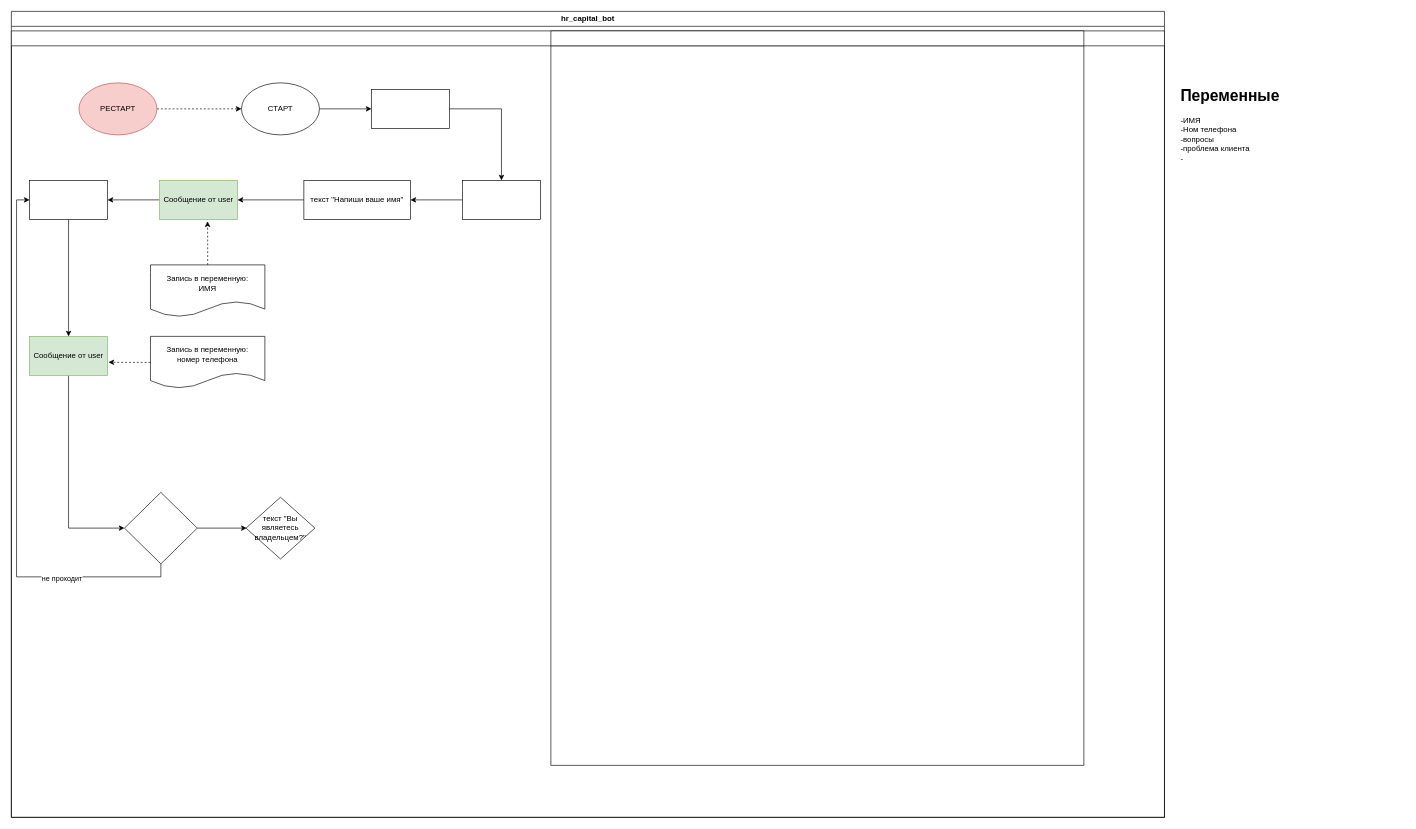
Image size: 1416x829. Some labels were removed from this diagram. The box of each missing label's shape, as (x1, y1, x2, y2) in pixels:
NLU: (550, 30, 1084, 765)
номер проходит валидацию: (124, 492, 197, 564)
Отправляет кружок с APP: (462, 180, 540, 219)
текст "Напишите ваш номер телефона": (29, 180, 108, 219)
текст Приветствия: (371, 89, 449, 128)
